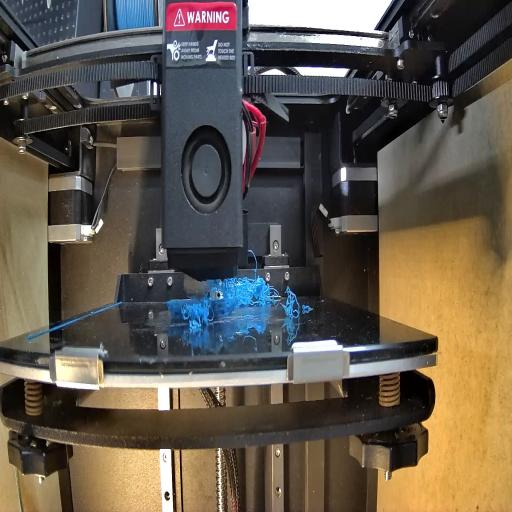spaghetti: (208, 274, 274, 304), (184, 294, 218, 334), (280, 282, 302, 321)
